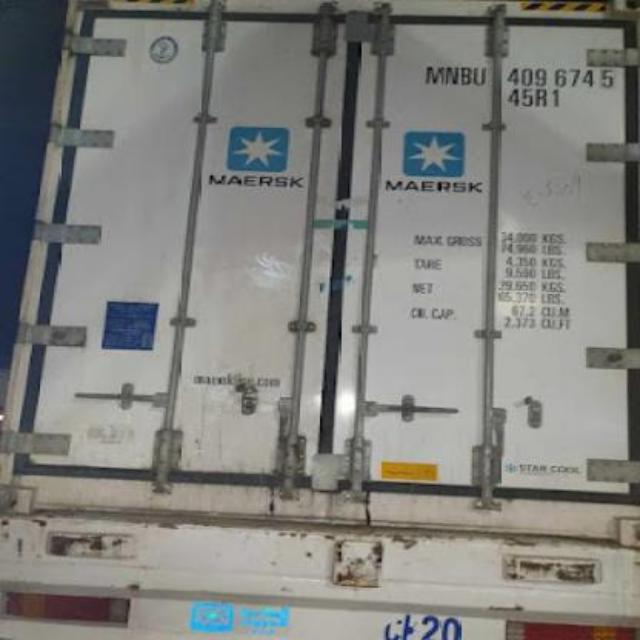0: (518, 61, 534, 87)
4: (580, 60, 596, 92), (506, 59, 520, 86)
5: (600, 60, 616, 90)
6: (554, 60, 568, 90)
7: (566, 60, 580, 90)
9: (534, 60, 548, 88)
B: (456, 56, 474, 90)
M: (424, 59, 442, 86)
N: (442, 56, 458, 90)
U: (472, 60, 486, 90)
